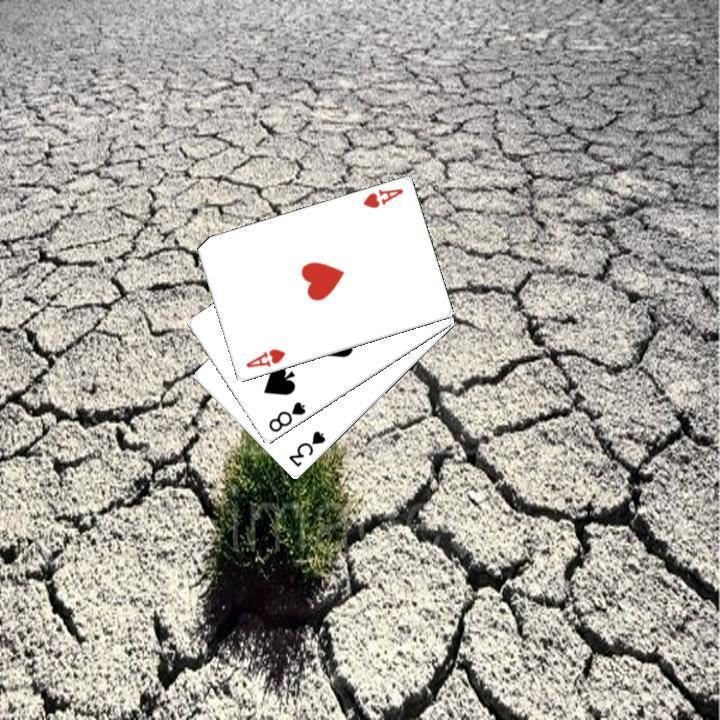3: (284, 427, 328, 469)
8: (264, 397, 308, 435)
A: (359, 184, 405, 211), (241, 345, 287, 370)
